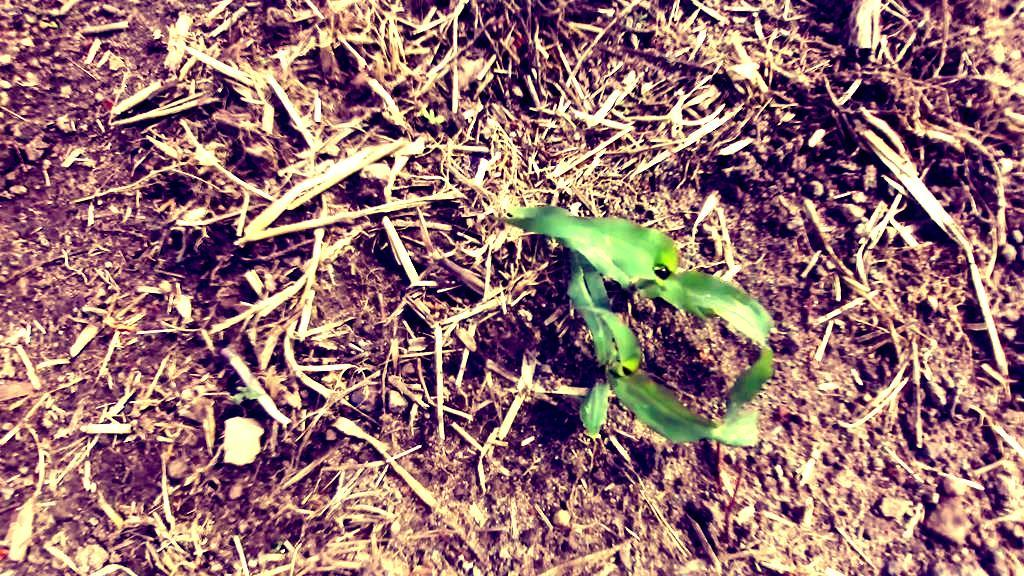BroWeed: (226, 379, 267, 408), (419, 102, 446, 129), (626, 5, 649, 27), (36, 19, 59, 32), (599, 6, 617, 22), (269, 539, 284, 555), (0, 548, 9, 562), (126, 107, 135, 115)
Maize: (474, 143, 803, 428), (483, 245, 778, 524)
